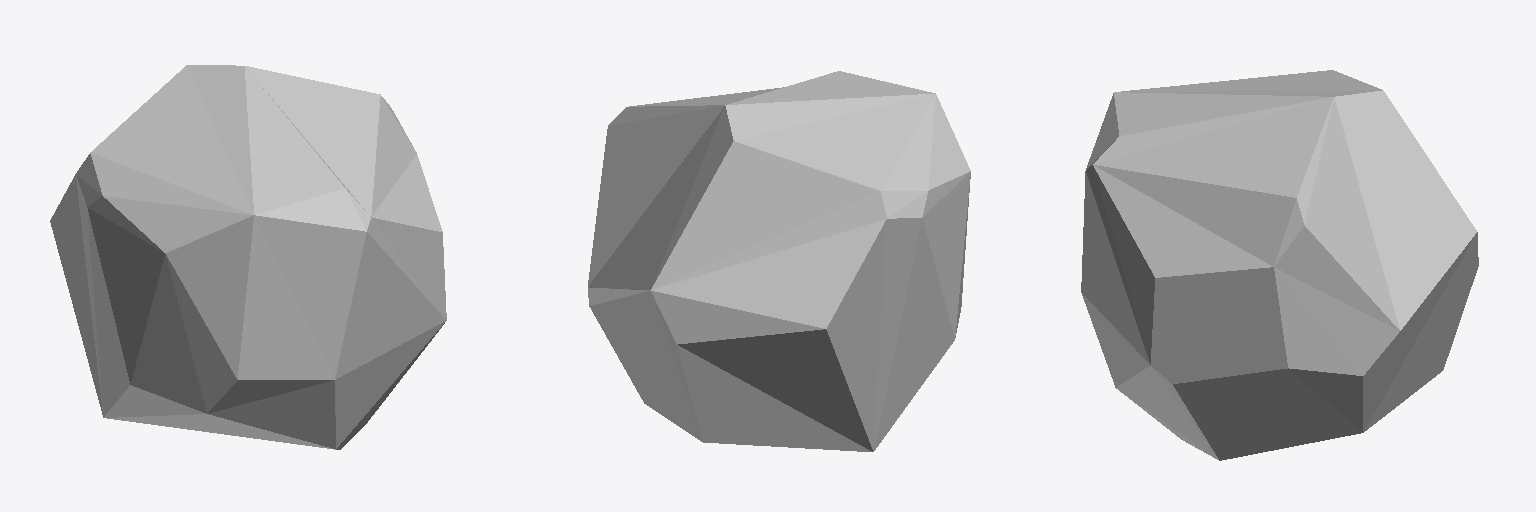
The model's file is Rock2.obj.
3 renders of one model, left to right at view 1: azimuth 30°, elevation 25°; view 2: azimuth 150°, elevation 25°; view 3: azimuth 270°, elevation 25°, orthographic.
Visible parts, largest first — view 1: Rock_2; view 2: Rock_2; view 3: Rock_2.
Part boxes in pixels (x1,y1,x2,y2): Rock_2: (50, 65, 446, 449); Rock_2: (588, 71, 970, 451); Rock_2: (1081, 70, 1478, 460).
Bounding box in the file's own units: 2.31 × 2.28 × 2.46.